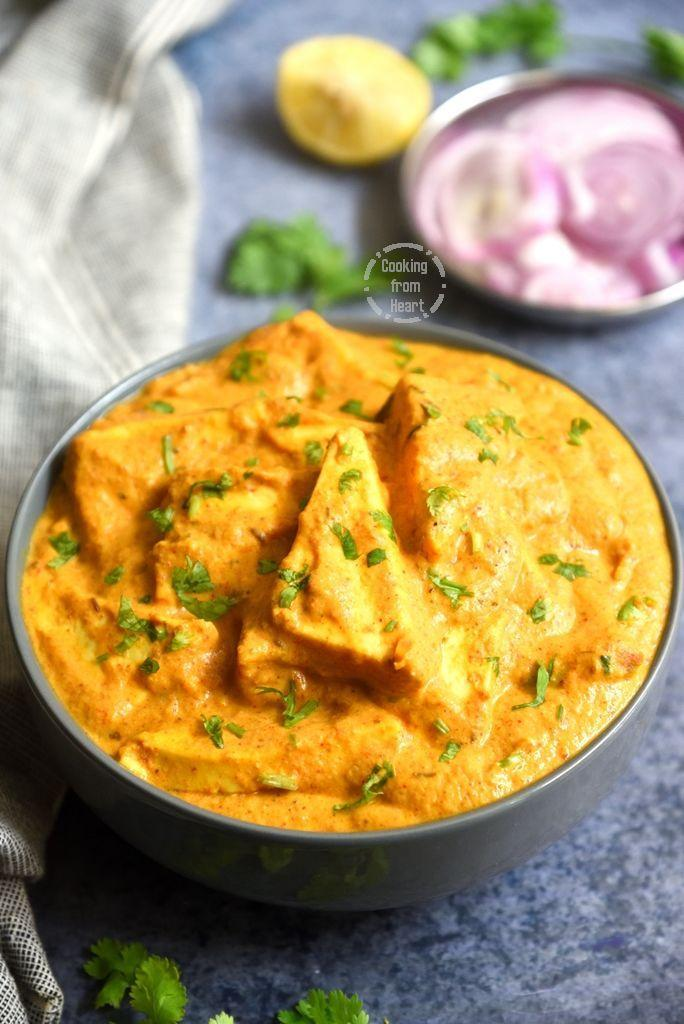paneer: (104, 411, 535, 705)
